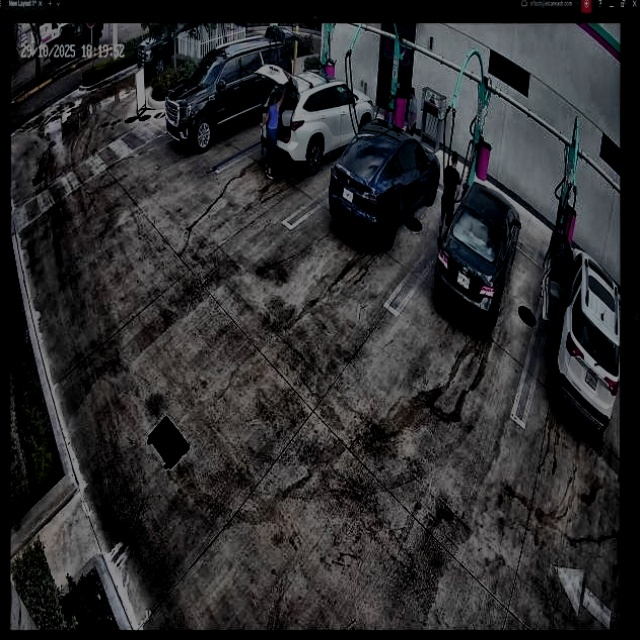Car: (332, 120, 440, 247), (257, 60, 374, 168), (437, 182, 521, 328)
